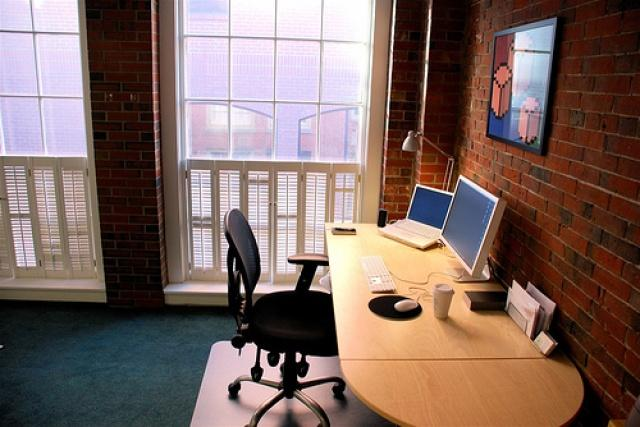AIO PC-Monitor-TV: (437, 173, 507, 279)
Kursi: (222, 207, 346, 426)
Meja: (324, 220, 584, 426)
